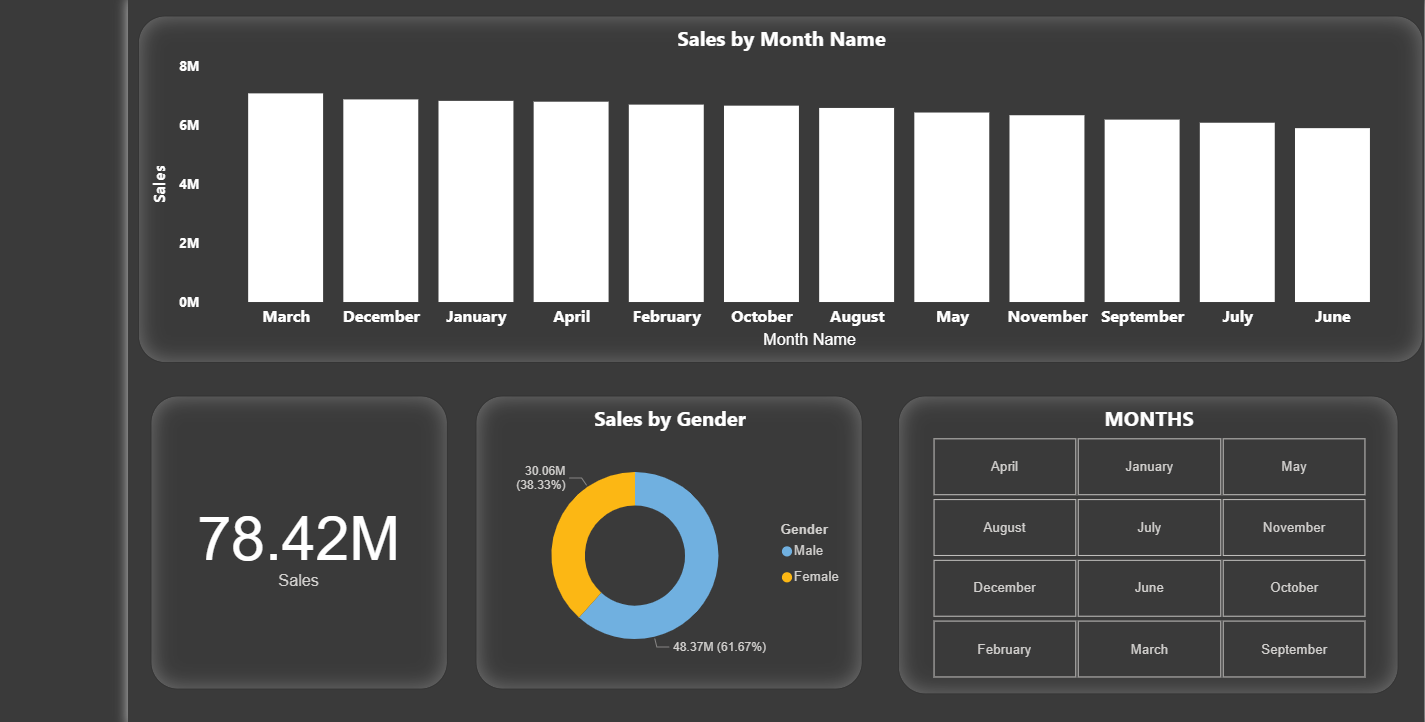

What the dashboard file says about the page in this screenshot:
{"tool":"powerbi","page":{"name":"MONTH REPORT","canvas":[1280,720],"ordinal":1},"visuals":[{"type":"columnChart","fields":{"Category":["Sales.Month Name"],"Y":["Sales.Sales"]},"box":[9.9,17,1269.9,343],"z":0},{"type":"card","fields":{"Values":["Sales.Sales"]},"box":[22.7,392.6,293.4,290.6],"z":1000},{"type":"slicer","title":"MONTHS","fields":{"Values":["Sales.Month Name"]},"box":[761.1,392.6,494.6,294.8],"z":2000},{"type":"donutChart","fields":{"Category":["Customer.Gender"],"Y":["Sales.Sales"]},"box":[343,392.6,382.7,290.6],"z":3000}]}

Visuals, with their boxes on the page's 1280x720 design canvas (x1, y1, x2, y2). These are canvas units, not pixel positions in the 1425x722 screenshot, which may show the page scaled, cropped or inside an application window:
columnChart - Sales.Month Name x Sales.Sales: (10, 17, 1280, 360)
card - Sales.Sales: (23, 393, 316, 683)
"MONTHS" slicer: (761, 393, 1256, 687)
donutChart - Customer.Gender x Sales.Sales: (343, 393, 726, 683)
